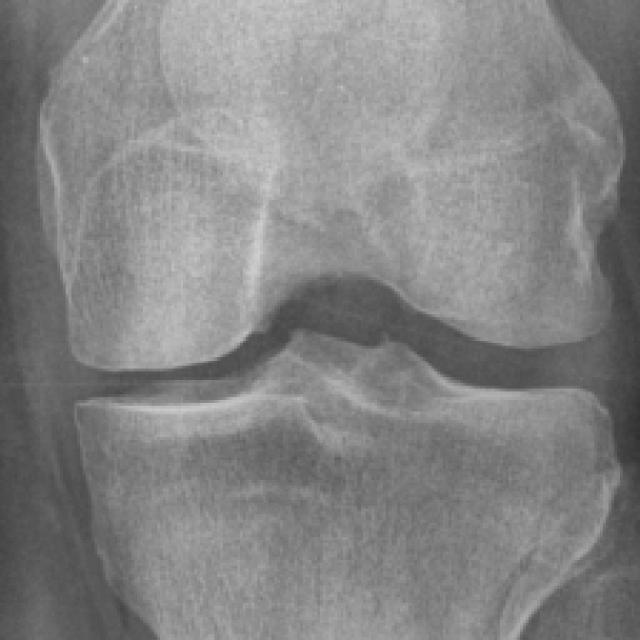femur: (35, 1, 625, 370)
tibia: (77, 334, 614, 637)
